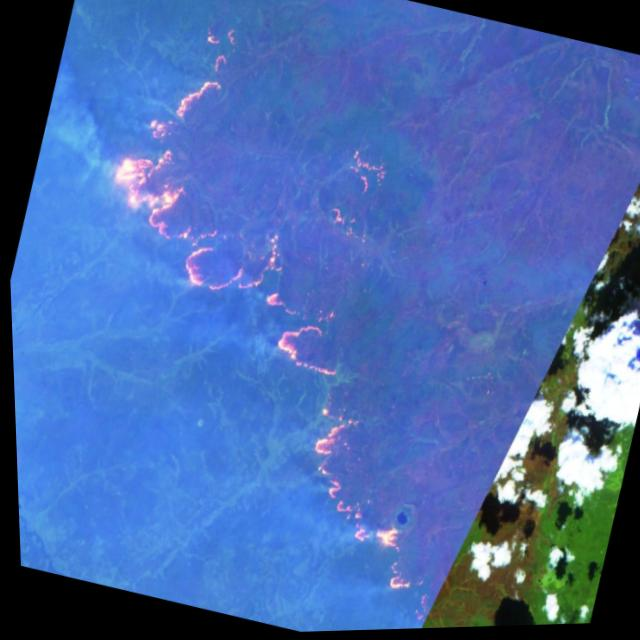fire: (1, 0, 575, 640)
